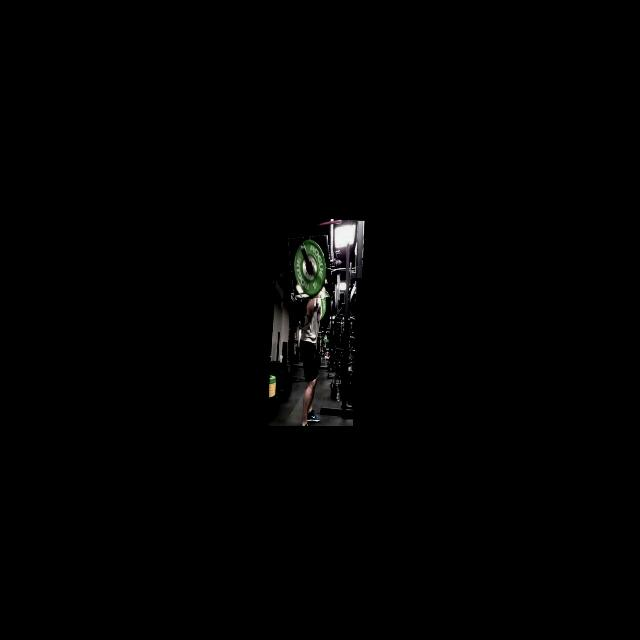barbell: (288, 234, 333, 299)
